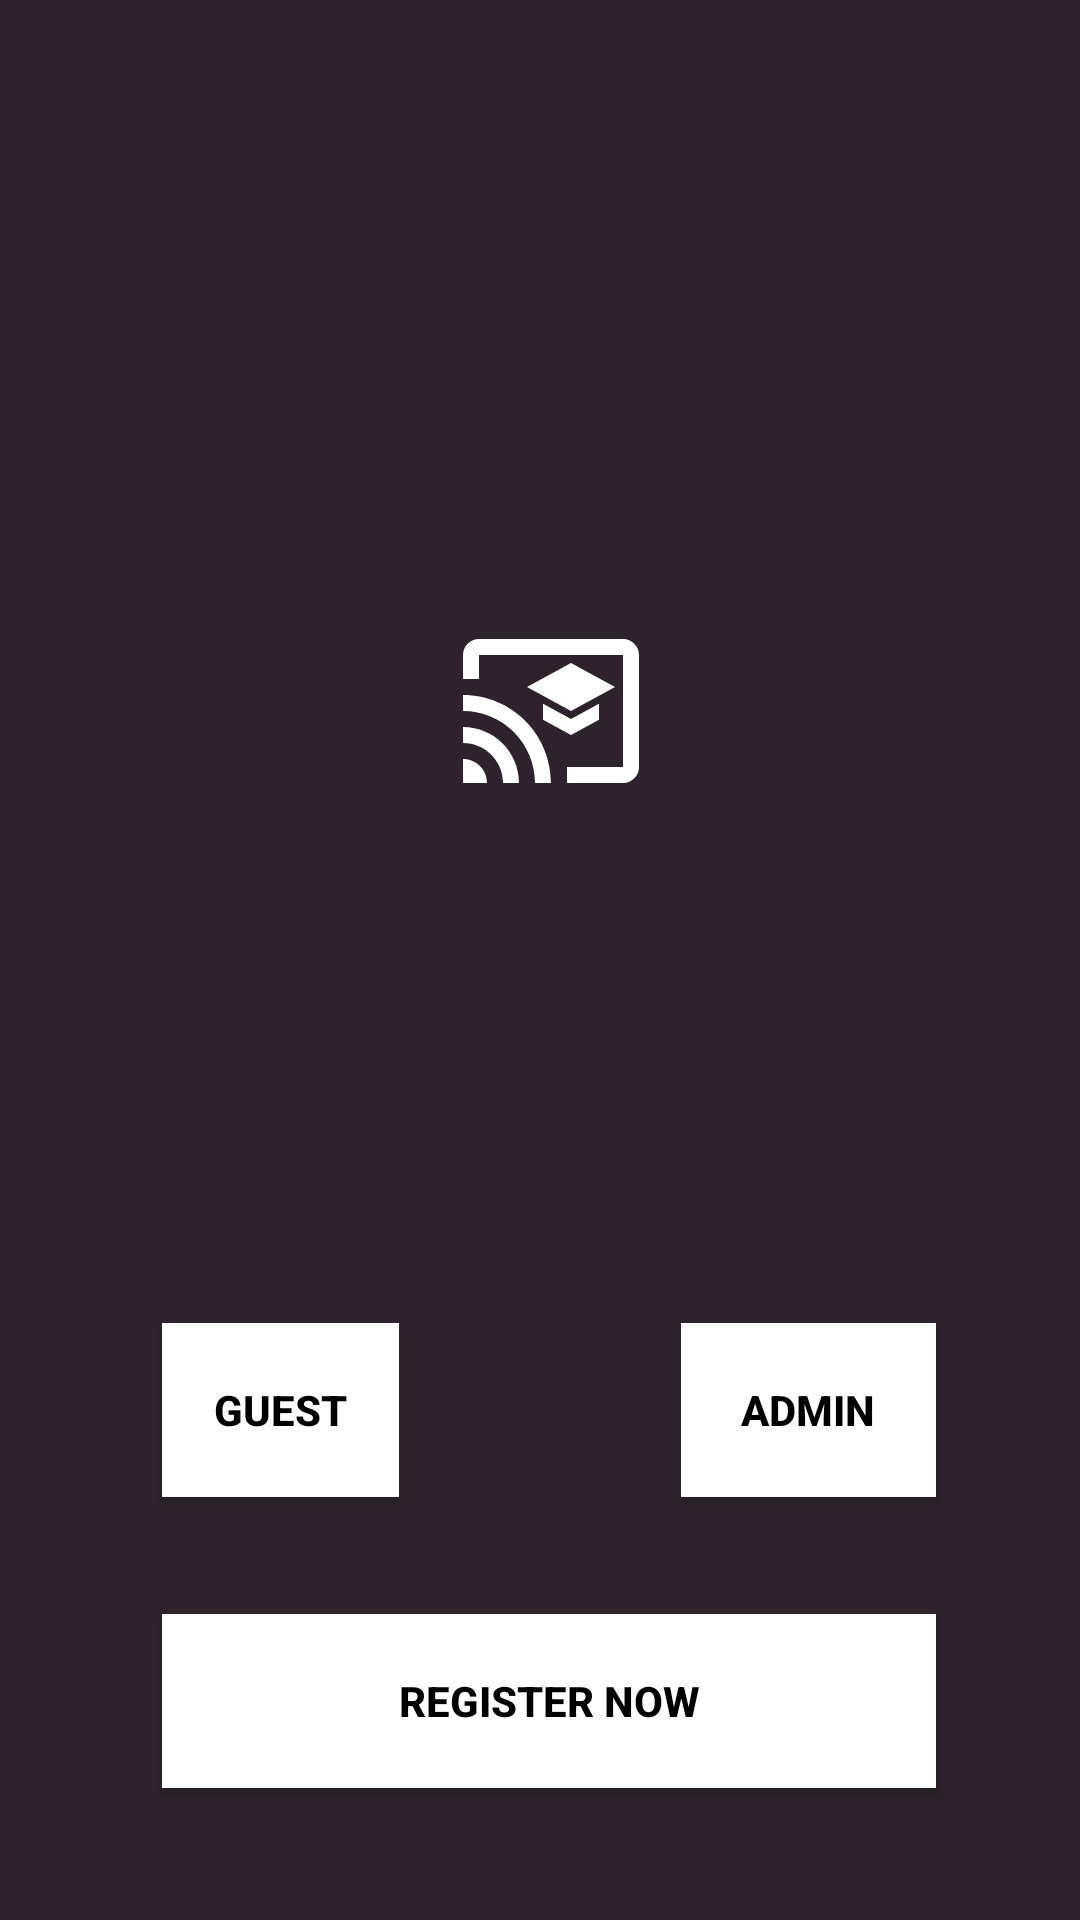

Icon click points for this 1080px×1920px phone screenshot, format [x,y]:
cast for education: [551,711]
